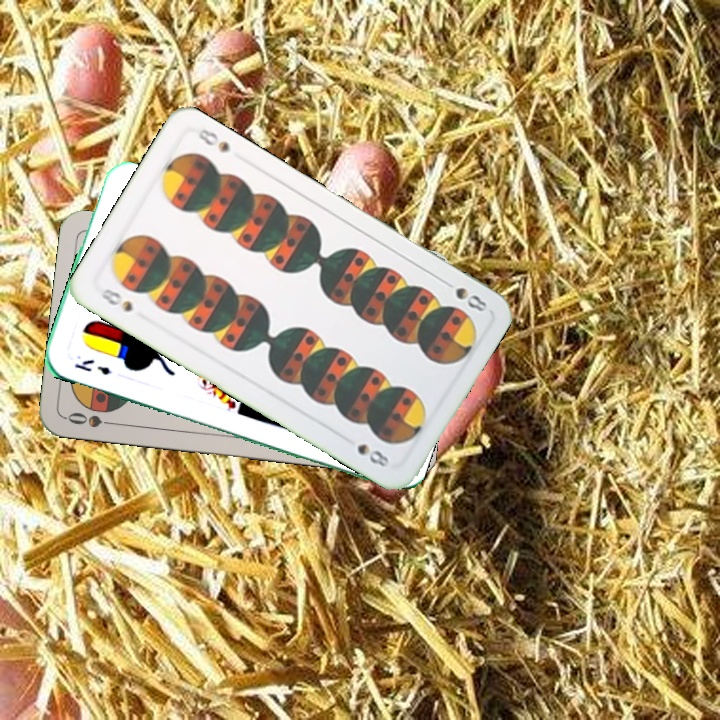EK: (71, 355, 115, 378)
S8: (451, 283, 490, 315), (96, 284, 136, 315)
SO: (62, 408, 122, 431)
